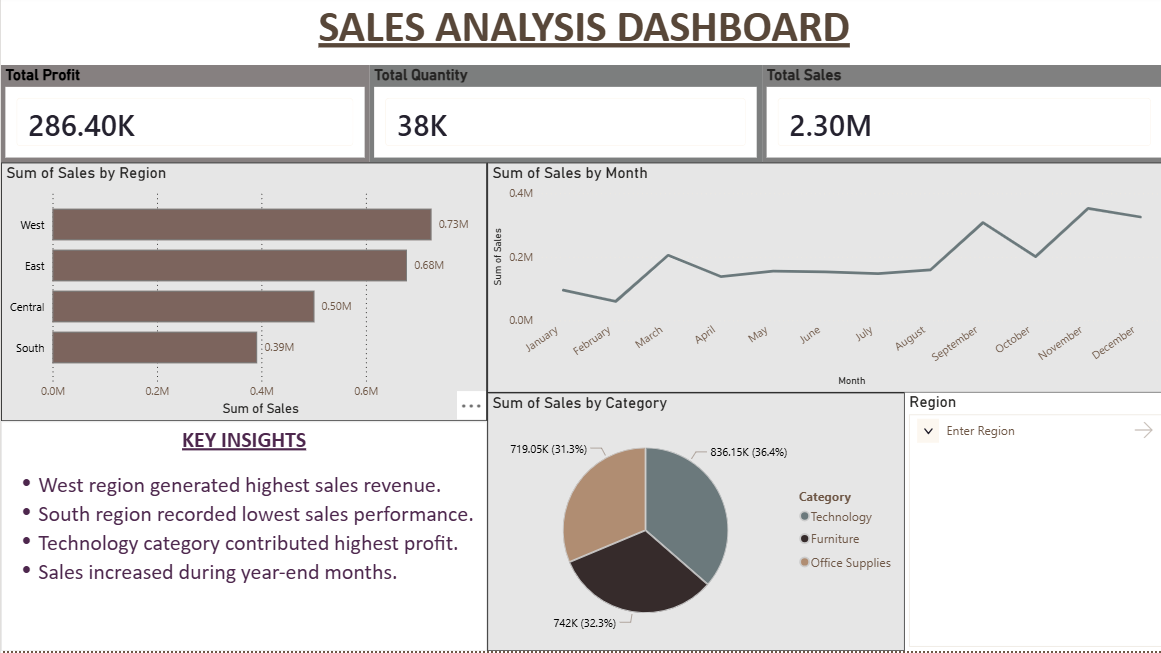

What the dashboard file says about the page in this screenshot:
{"tool":"powerbi","page":{"name":"Page 1","canvas":[1280,720],"ordinal":0},"visuals":[{"type":"textbox","box":[0,0,1280.3,76.8],"z":0},{"type":"cardVisual","title":"Total Sales","fields":{"Data":["Sum(superstore.Sales)"]},"box":[835.7,76.8,444.6,107],"z":1000},{"type":"cardVisual","title":"Total Profit","fields":{"Data":["Sum(superstore.Profit)"]},"box":[0,76.8,404.8,107],"z":2000},{"type":"cardVisual","title":"Total Quantity","fields":{"Data":["Sum(superstore.Quantity)"]},"box":[404.8,76.8,430.9,107],"z":3000},{"type":"clusteredBarChart","fields":{"Category":["superstore.Region"],"Y":["Sum(superstore.Sales)"]},"box":[0,183.9,533.8,284],"z":4000},{"type":"pieChart","fields":{"Category":["superstore.Category"],"Y":["Sum(superstore.Sales)"]},"box":[533.8,436.4,458.3,284],"z":5000},{"type":"lineChart","fields":{"Y":["Sum(superstore.Sales)"],"Category":["LocalDateTable_a794d3f9-53b8-4004-b1e0-3ad823460b59.Month"]},"box":[533.8,183.9,746.5,252.5],"z":6000},{"type":"textSlicer","fields":{"Values":["superstore.Region"]},"box":[992.1,436.4,288.2,284],"z":7000},{"type":"textbox","box":[0,467.9,533.8,252.5],"z":8000}]}

Visuals, with their boxes in screenshot pixels (x1, y1, x2, y2), scaled from the page's 1280x720 canvas onto the 1161x653 screenshot:
textbox: box=[0, 0, 1160, 70]
"Total Sales" cardVisual: box=[758, 70, 1160, 167]
"Total Profit" cardVisual: box=[0, 70, 367, 167]
"Total Quantity" cardVisual: box=[367, 70, 758, 167]
clusteredBarChart - superstore.Region x Sum(superstore.Sales): box=[0, 167, 484, 424]
pieChart - superstore.Category x Sum(superstore.Sales): box=[484, 396, 900, 652]
lineChart - Sum(superstore.Sales) x LocalDateTable_a794d3f9-53b8-4004-b1e0-3ad823460b59.Month: box=[484, 167, 1160, 396]
textSlicer - superstore.Region: box=[900, 396, 1160, 652]
textbox: box=[0, 424, 484, 652]
